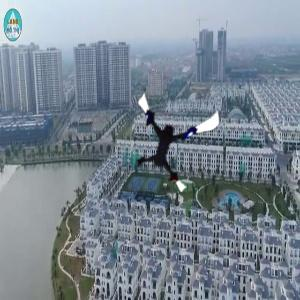drone: (120, 88, 216, 184)
